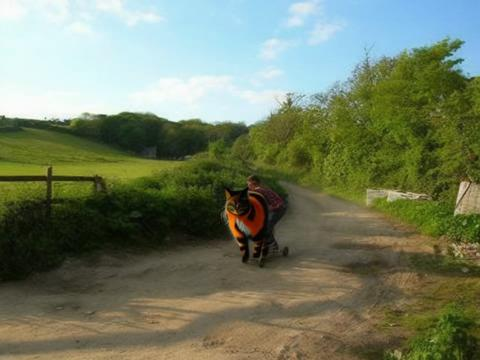cat: (222, 189, 268, 256)
person: (237, 176, 291, 269)
